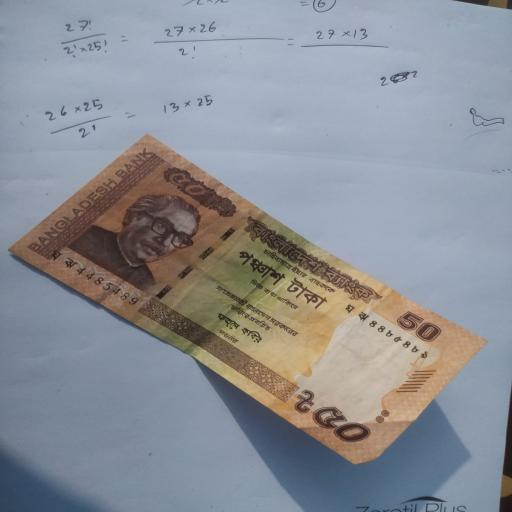50taka: (6, 128, 485, 471)
